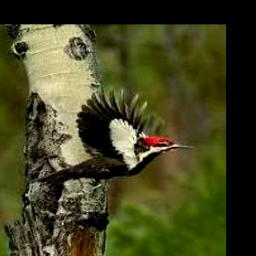Woodpecker: (31, 87, 194, 189)
